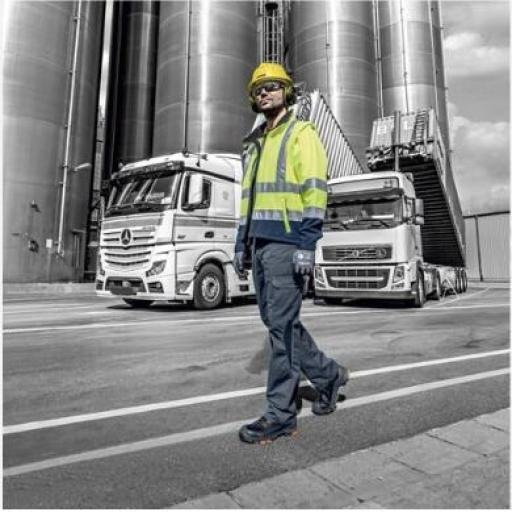safety_boots: (313, 352, 355, 426), (234, 412, 298, 450)
